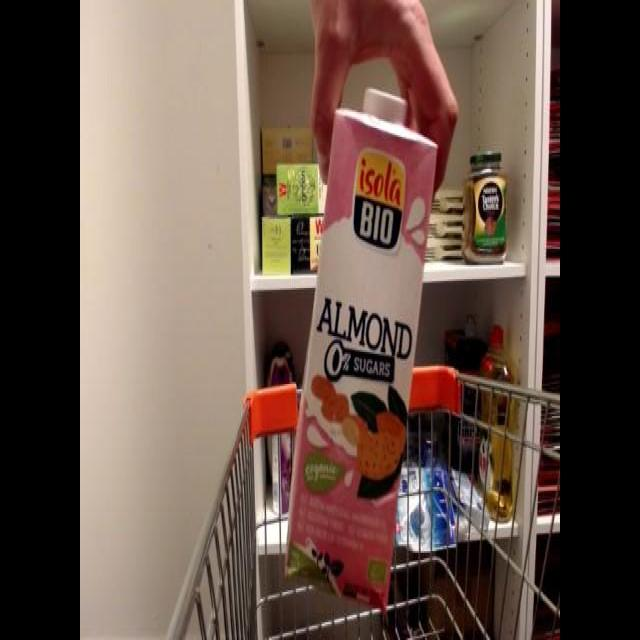Almond Milk: (280, 80, 441, 620)
